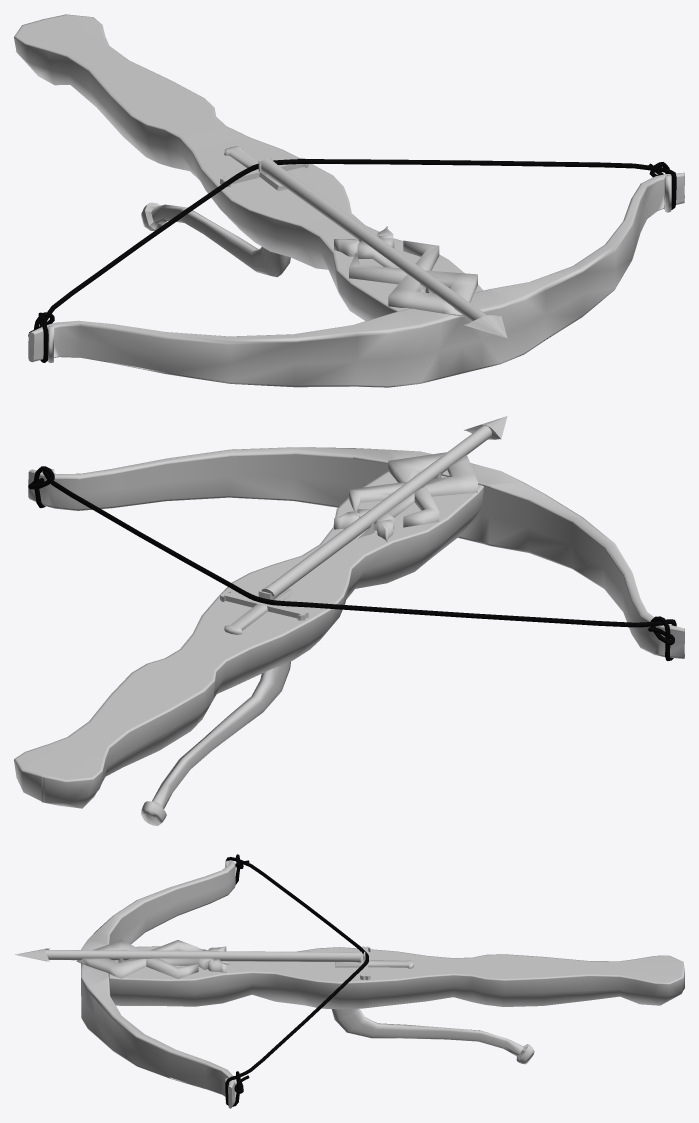
File: CrossBowModel.fbx
The picture shows the model from 3 angles, top to bottom: view 1: azimuth 30°, elevation 25°; view 2: azimuth 150°, elevation 25°; view 3: azimuth 270°, elevation 25°; orthographic projection. The views are drawn at different scales.
Visible parts, largest first — view 1: Tension, Body, BloodSigil, Rope, CrossBowBolt, Arm, CrossSword; view 2: Body, Tension, BloodSigil, Rope, CrossBowBolt, Arm, CrossSword; view 3: Body, Tension, CrossBowBolt, Arm, BloodSigil, Rope, CrossSword.
Boxes of the visible parts, bbox=[...] form: Tension: bbox=[28, 172, 684, 387]; Body: bbox=[14, 14, 483, 321]; BloodSigil: bbox=[334, 226, 477, 315]; Rope: bbox=[28, 159, 676, 362]; CrossBowBolt: bbox=[261, 158, 507, 338]; Arm: bbox=[141, 202, 290, 277]; CrossSword: bbox=[220, 146, 308, 191]; Body: bbox=[14, 471, 483, 808]; Tension: bbox=[28, 447, 684, 658]; BloodSigil: bbox=[334, 452, 477, 541]; Rope: bbox=[28, 466, 676, 660]; CrossBowBolt: bbox=[261, 416, 507, 599]; Arm: bbox=[141, 661, 290, 825]; CrossSword: bbox=[220, 589, 308, 634]; Body: bbox=[109, 946, 684, 1009]; Tension: bbox=[81, 856, 235, 1108]; CrossBowBolt: bbox=[15, 948, 361, 962]; Arm: bbox=[331, 1008, 534, 1064]; BloodSigil: bbox=[76, 940, 230, 978]; Rope: bbox=[225, 854, 368, 1106]; CrossSword: bbox=[335, 946, 413, 980].
Size of the model in its own units: 396 by 485 by 90.68.
